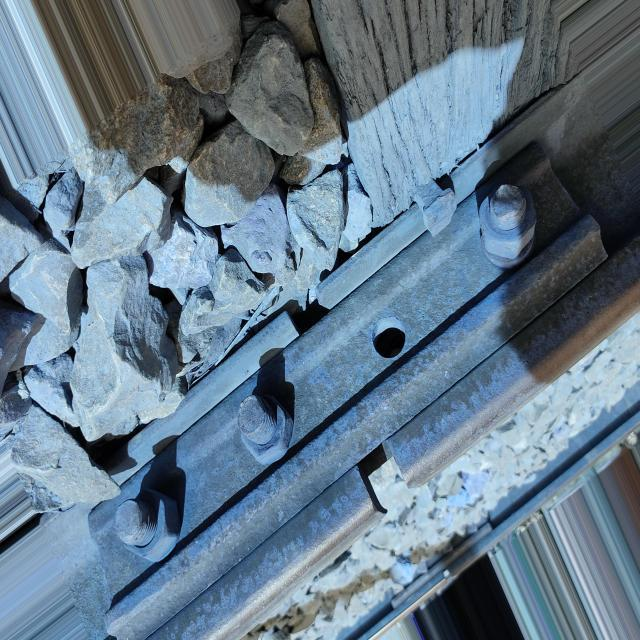Defective Joint: (76, 144, 607, 638)
